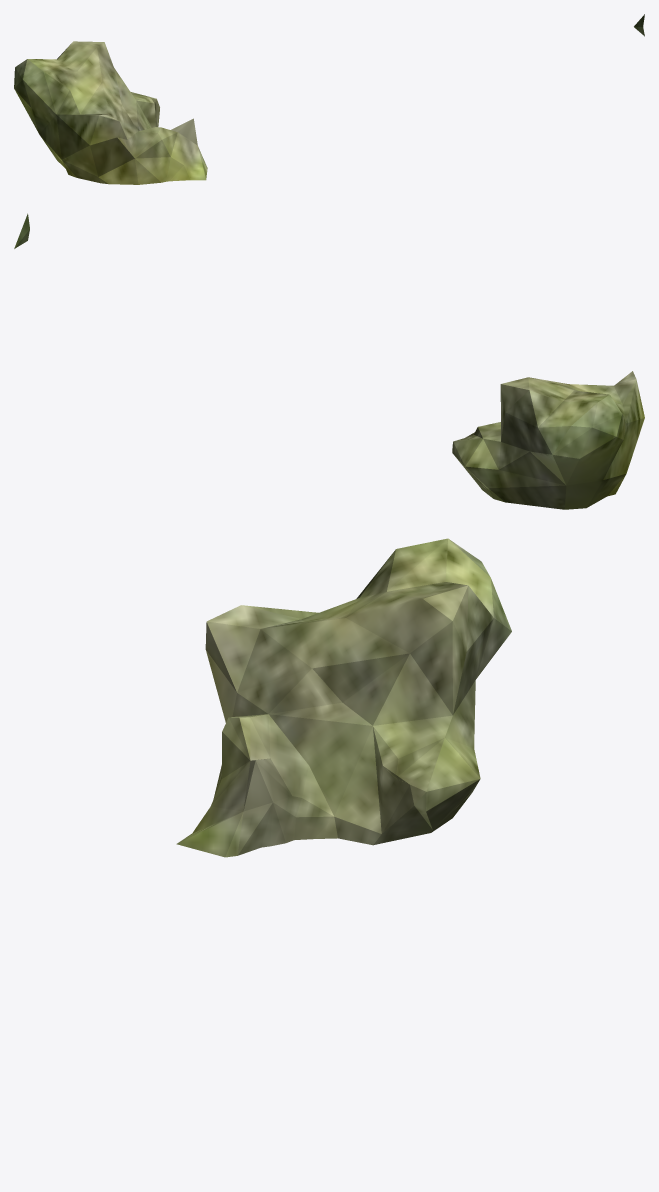
The picture shows the model from 3 angles, top to bottom: view 1: azimuth 30°, elevation 25°; view 2: azimuth 150°, elevation 25°; view 3: azimuth 270°, elevation 25°; orthographic projection. The views are drawn at different scales.
Bounding box in the file's own units: 4.79 × 0.8236 × 1.36.
Materials: 1 (1 with a texture image).
